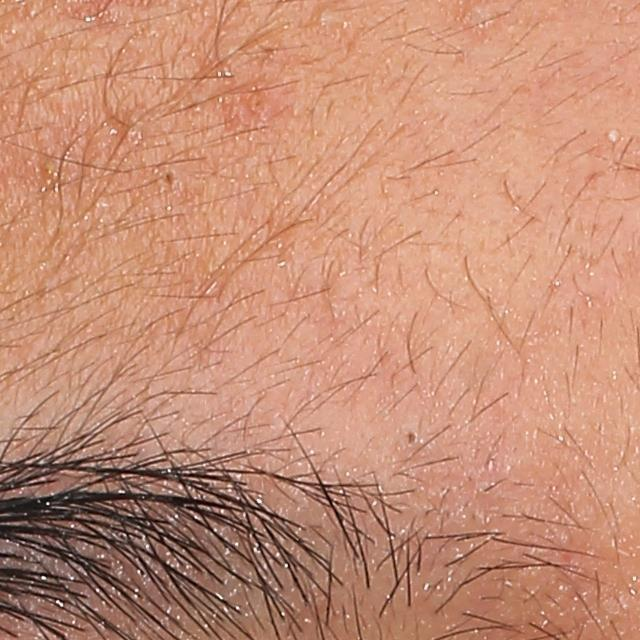comedo: (216, 81, 284, 140), (307, 7, 344, 34), (401, 423, 424, 455), (157, 165, 184, 190)
